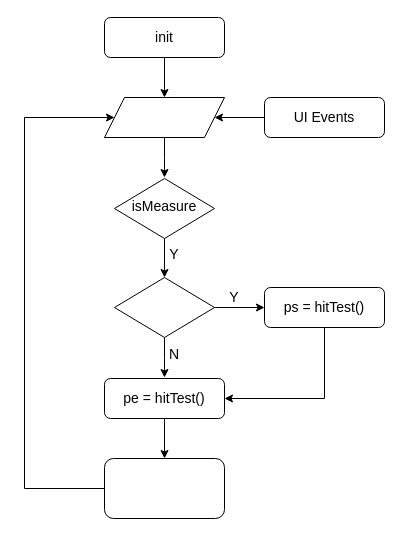
Some shapes in this 402 by 536 pixel diagram are drawn without their labels. The shapes that lost their labels are listed below. From the top down, each one's centre as x and y in pixels, then its label:
At pixel 164 307: "start point".
At pixel 164 488: "compute distance isMeasure = false".
